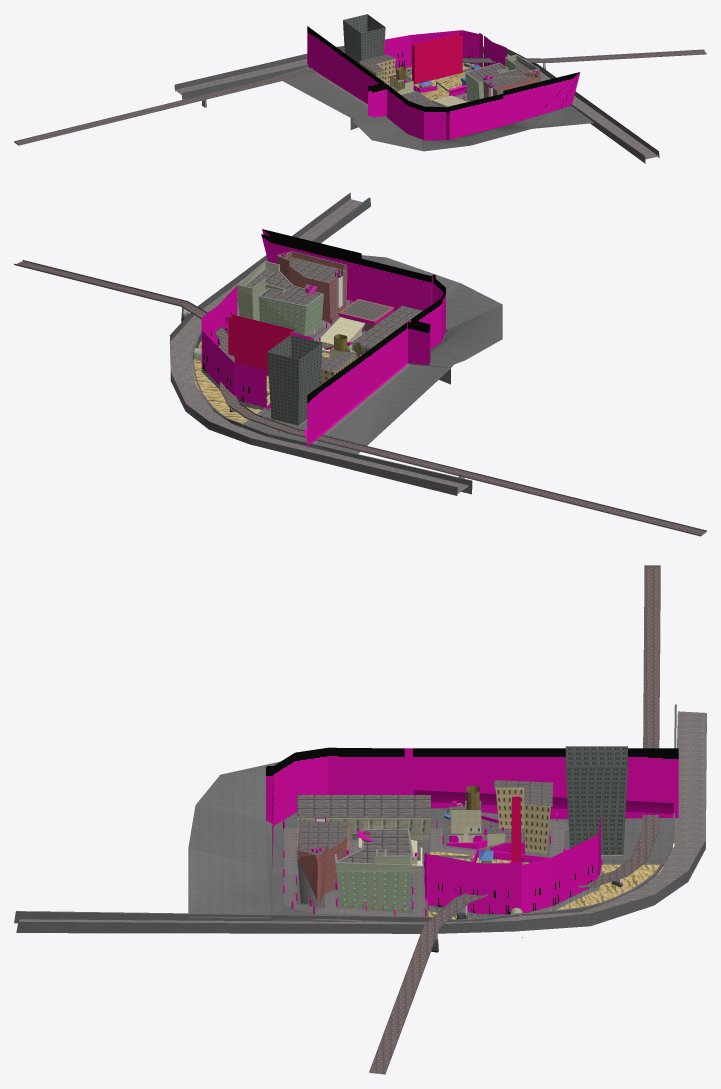
File: DownTown.FBX
3 renders of one model, top to bottom at view 1: azimuth 30°, elevation 25°; view 2: azimuth 150°, elevation 25°; view 3: azimuth 270°, elevation 25°, orthographic. The views are drawn at different scales.
Visible parts, largest first — view 1: Object01, Box12, Highway_04, Railyard_Fence_Collide, Box01, railway_05, Box14, Highway_01, ImportedLWObject01, Roof - Apartment wth Ally, Railway_01, Grass_01 (+10 smaller); view 2: Object01, Box14, ImportedLWObject01, Highway_04, Railyard_Fence_Collide, railway_05, Lift Building, Apartment wth Ally, Highway_01, Box01, Highway_03, Roof - Apartment wth Ally (+14 smaller); view 3: Object01, Highway_01, Railyard_Fence_Collide, ImportedLWObject01, Box12, upper class building, Highway_04, Grass_04, railway_05, Lift Building, Highway_03, Apartment wth Ally (+13 smaller).
Part boxes in pixels (x1,y1,x2,y2): Object01: (307,26,579,140); Box12: (503,72,593,128); Highway_04: (174,53,308,99); Railyard_Fence_Collide: (384,30,506,92); Box01: (412,33,462,84); railway_05: (14,68,317,145); Box14: (275,65,367,117); Highway_01: (538,64,659,163); ImportedLWObject01: (343,14,385,63); Roof - Apartment wth Ally: (464,54,539,82); Railway_01: (543,49,706,62); Grass_01: (350,83,406,139); Object01: (261,234,445,447); Box14: (304,362,451,453); ImportedLWObject01: (267,335,322,426); Highway_04: (250,433,472,495); Railyard_Fence_Collide: (201,286,270,410); railway_05: (288,428,706,536); Lift Building: (276,251,347,322); Apartment wth Ally: (237,285,323,336); Highway_01: (193,192,370,316); Box01: (228,314,293,375); Highway_03: (171,372,267,444); Roof - Apartment wth Ally: (237,261,323,307); Object01: (266,747,678,867); Highway_01: (14,911,426,933); Railyard_Fence_Collide: (428,814,602,914); ImportedLWObject01: (565,746,627,855); Box12: (188,848,271,918); upper class building: (297,795,430,839); Highway_04: (672,704,706,848); Grass_04: (188,805,272,871); railway_05: (642,565,660,831); Lift Building: (297,815,347,905); Highway_03: (582,841,705,925); Apartment wth Ally: (336,851,411,912).
Bounding box in the file's own units: 98744 × 9636 × 56663.
